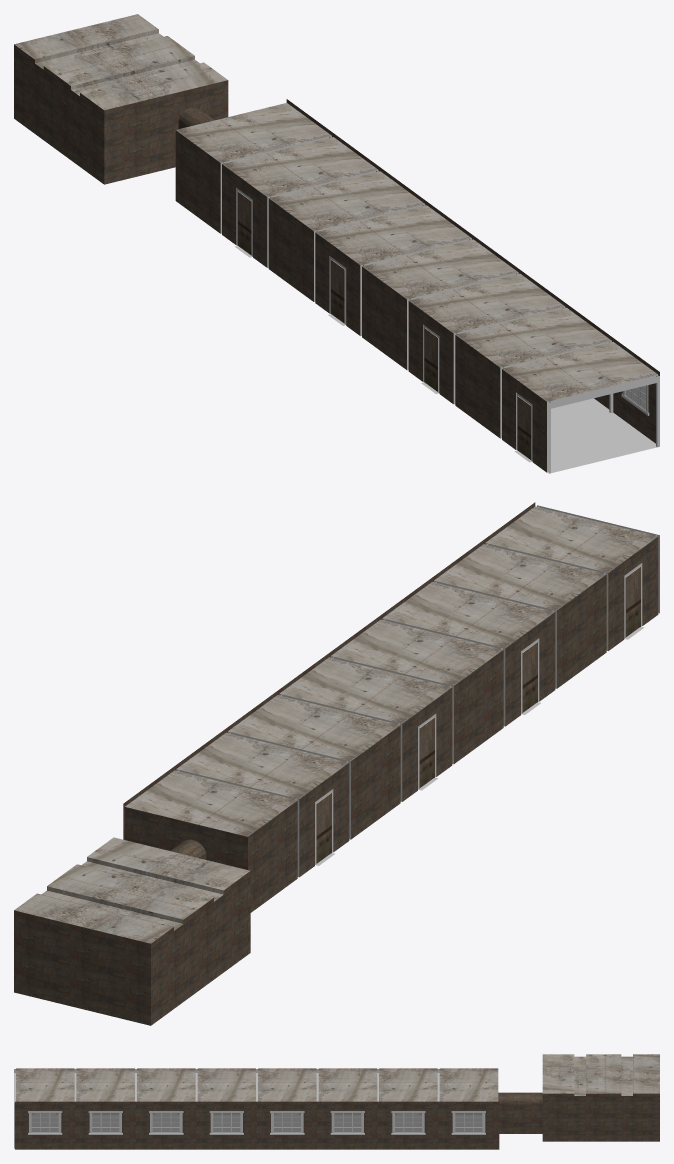
File: castle02.dae
3 renders of one model, top to bottom at view 1: azimuth 30°, elevation 25°; view 2: azimuth 150°, elevation 25°; view 3: azimuth 270°, elevation 25°, orthographic. The views are drawn at different scales.
Parts seen in each view (by area): view 1: group_2 (×25); view 2: group_2 (×22); view 3: group_2 (×20).
Part boxes in pixels (<box>): group_2 (×25): <box>14,14,659,473</box>; group_2 (×22): <box>14,502,658,1025</box>; group_2 (×20): <box>15,1054,659,1149</box>.
Size of the model in its own units: 227 by 1311 by 108.
